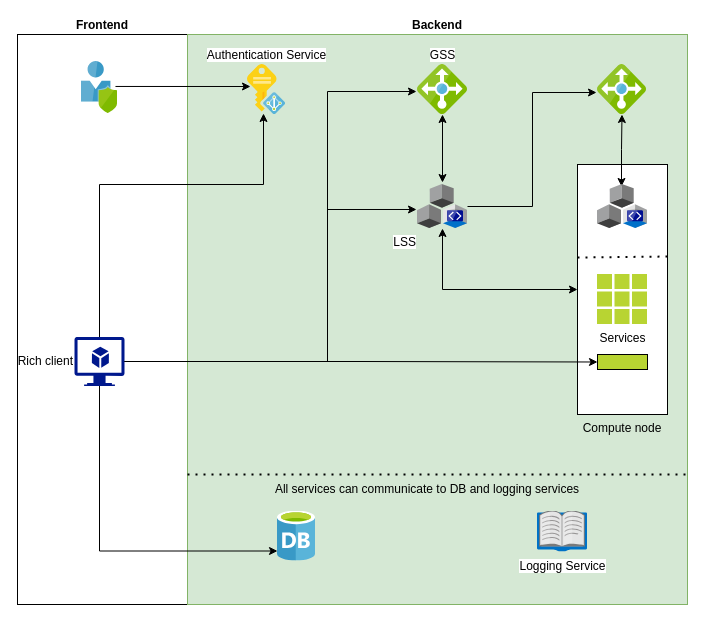
The diagram is 707 pixels wide and 622 high, and some of its shapes have lost their labels. The box of each missing label's shape, as (x1, y1, x2, y2) in pixels:
Admin Panel (web): (81, 61, 117, 113)
GDS: (597, 64, 646, 114)
LDS: (597, 184, 647, 228)
MongoDB: (277, 510, 315, 560)
Relay Service: (596, 354, 648, 370)
